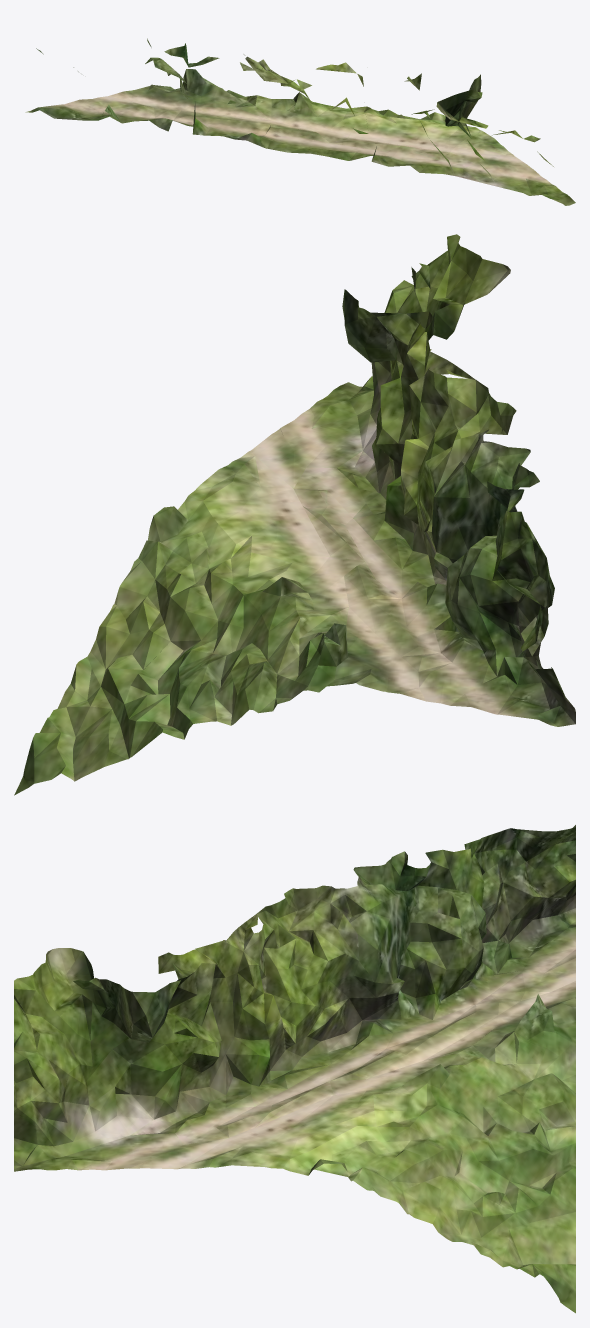
3 views of the same model, one above another, from view 1: azimuth 30°, elevation 25°; view 2: azimuth 150°, elevation 25°; view 3: azimuth 270°, elevation 25° (orthographic). The views are drawn at different scales.
Bounding box in the file's own units: 25.34 × 14.78 × 26.11.
Materials: 2 (2 with a texture image).
